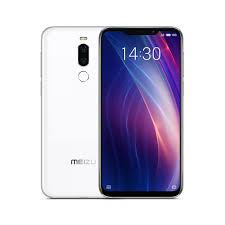meizu: (38, 22, 185, 199), (96, 25, 185, 200), (37, 23, 98, 198)
